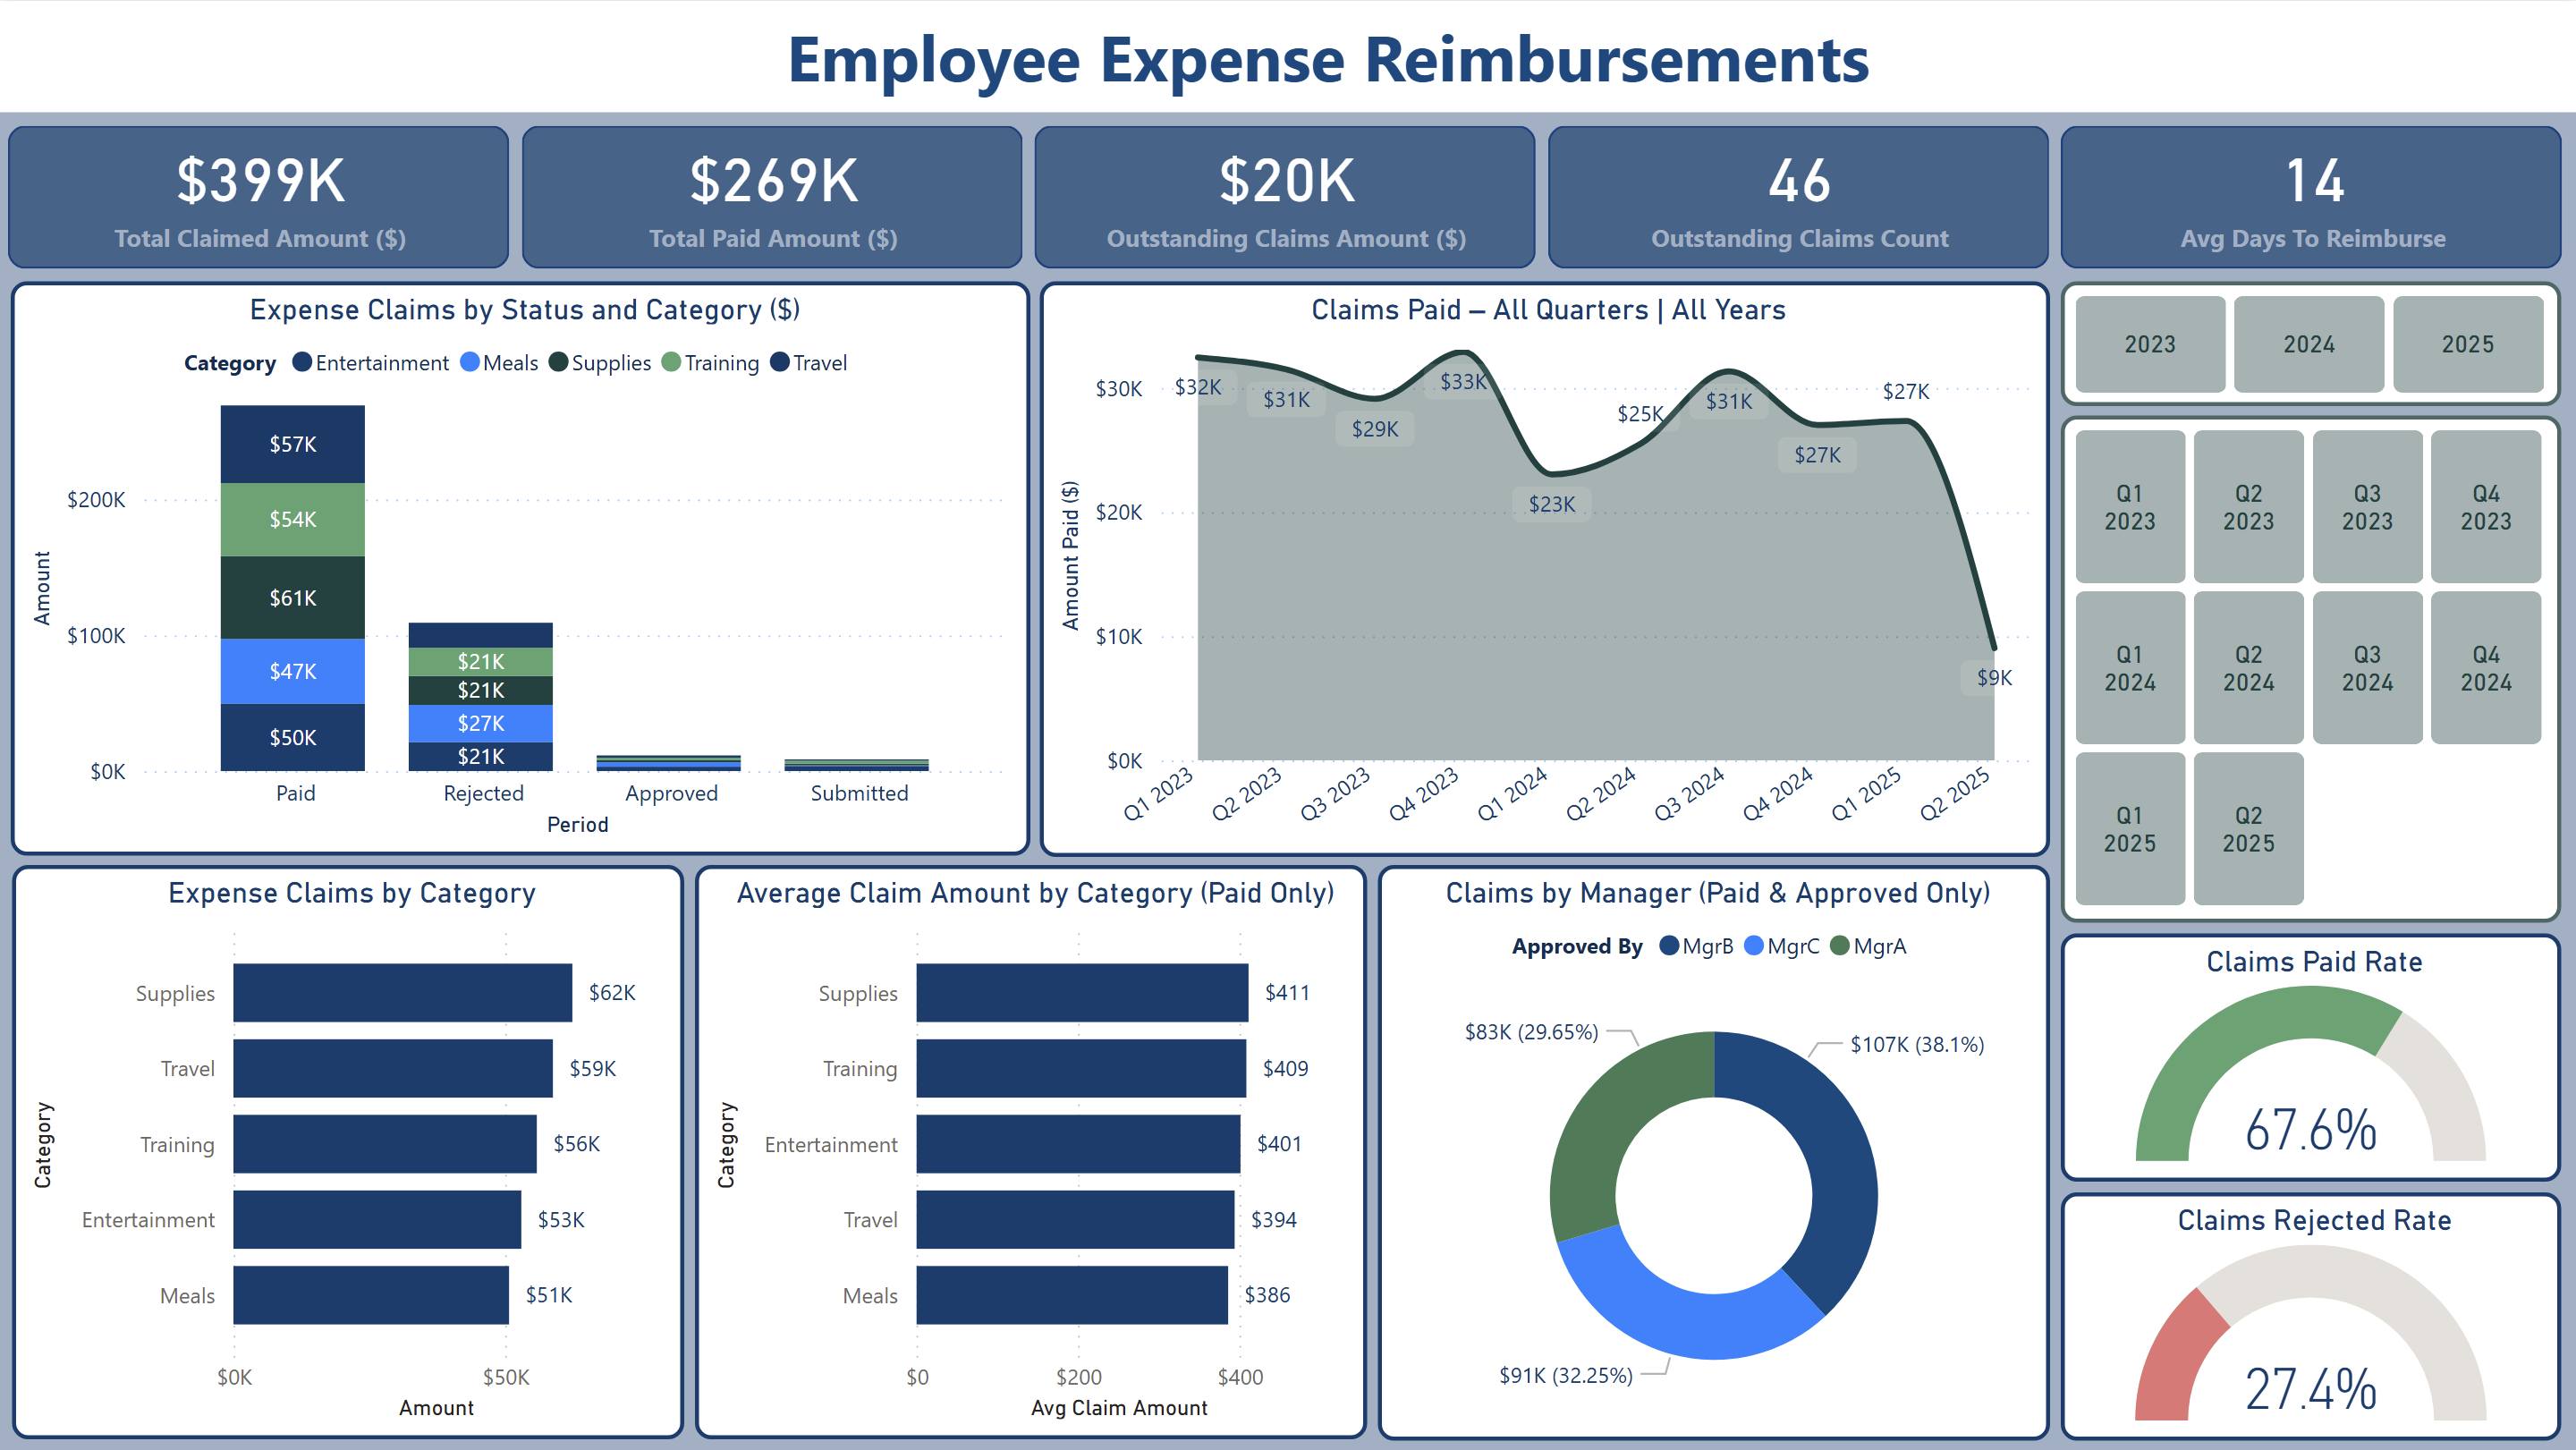

Layout of this report page (visuals, bound fields, positions):
{"tool":"powerbi","page":{"name":"Employee Expense Reimbursements","canvas":[1280,720],"ordinal":3},"visuals":[{"type":"columnChart","title":"Expense Claims by Status and Category  ($)","fields":{"Category":["Fact_ExpenseClaims.Status"],"Y":["Sum(Fact_ExpenseClaims.Amount)"],"Series":["Fact_ExpenseClaims.Category"]},"box":[5.3,139.3,506.7,285.3],"z":0},{"type":"donutChart","title":"Claims by Manager (Paid & Approved Only)","fields":{"Y":["Sum(Fact_ExpenseClaims.Amount)"],"Category":["Fact_ExpenseClaims.ApprovedBy"]},"box":[684.7,429.3,334,286],"z":1000},{"type":"areaChart","fields":{"Category":["Dim_Date.QuarterLabel","Dim_Date.StartOfMonth"],"Y":["Sum(Fact_ExpenseClaims.Amount)"]},"box":[516.7,139.3,502,286],"z":2000},{"type":"advancedSlicerVisual","fields":{"Values":["Dim_Date.FiscalYear"]},"box":[1024.3,139.3,248.6,62.1],"z":3000},{"type":"advancedSlicerVisual","fields":{"Values":["Dim_Date.QuarterLabel"]},"box":[1024,206,248.7,252],"z":4000},{"type":"cardVisual","fields":{"Data":["_Measures.Expense Total","_Measures.Paid Expenses","_Measures.Outstanding Claims Amount","_Measures.Outstanding Claims Count","_Measures.Avg Days To Pay Claim (Paid)"]},"box":[0,60,1280,75],"z":5000},{"type":"textbox","box":[0,0,1280,55],"z":6000},{"type":"barChart","title":"Expense Claims by Category","fields":{"Category":["Fact_ExpenseClaims.Category"],"Y":["Sum(Fact_ExpenseClaims.Amount)"]},"box":[6,429.3,334,285.3],"z":7000},{"type":"barChart","title":"Average Claim Amount by Category (Paid Only)","fields":{"Category":["Fact_ExpenseClaims.Category"],"Y":["_Measures.Avg Paid Claim"]},"box":[345,429.3,334,285.3],"z":8000},{"type":"gauge","title":"Claims Paid Rate","fields":{"Y":["_Measures.Paid Expense %"]},"box":[1024,463.3,248.7,123],"z":9000},{"type":"gauge","title":"Claims Rejected Rate","fields":{"Y":["_Measures.Rejected Expense %"]},"box":[1024,592,248.7,123.3],"z":10000}]}

Visuals, with their boxes in screenshot pixels (x1, y1, x2, y2), scaled from the page's 1280x720 canvas onto the 2576x1450 screenshot:
"Expense Claims by Status and Category  ($)" columnChart: x1=11 y1=281 x2=1030 y2=855
"Claims by Manager (Paid & Approved Only)" donutChart: x1=1378 y1=865 x2=2050 y2=1440
areaChart - Dim_Date.QuarterLabel x Dim_Date.StartOfMonth: x1=1040 y1=281 x2=2050 y2=857
advancedSlicerVisual - Dim_Date.FiscalYear: x1=2062 y1=281 x2=2562 y2=405
advancedSlicerVisual - Dim_Date.QuarterLabel: x1=2061 y1=415 x2=2562 y2=922
cardVisual - _Measures.Expense Total x _Measures.Paid Expenses: x1=0 y1=121 x2=2575 y2=272
textbox: x1=0 y1=0 x2=2575 y2=111
"Expense Claims by Category" barChart: x1=13 y1=865 x2=684 y2=1439
"Average Claim Amount by Category (Paid Only)" barChart: x1=694 y1=865 x2=1367 y2=1439
"Claims Paid Rate" gauge: x1=2061 y1=933 x2=2562 y2=1181
"Claims Rejected Rate" gauge: x1=2061 y1=1192 x2=2562 y2=1440
